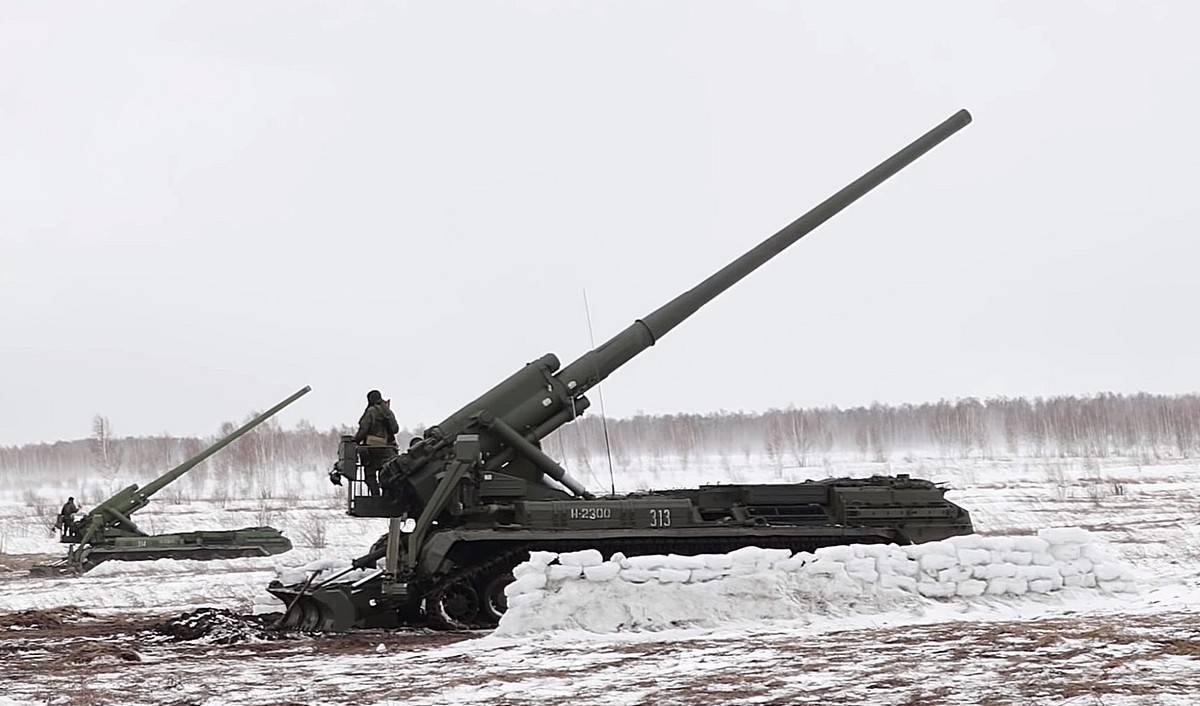person: (53, 497, 77, 544)
sau: (296, 56, 1072, 684), (70, 361, 321, 572)
